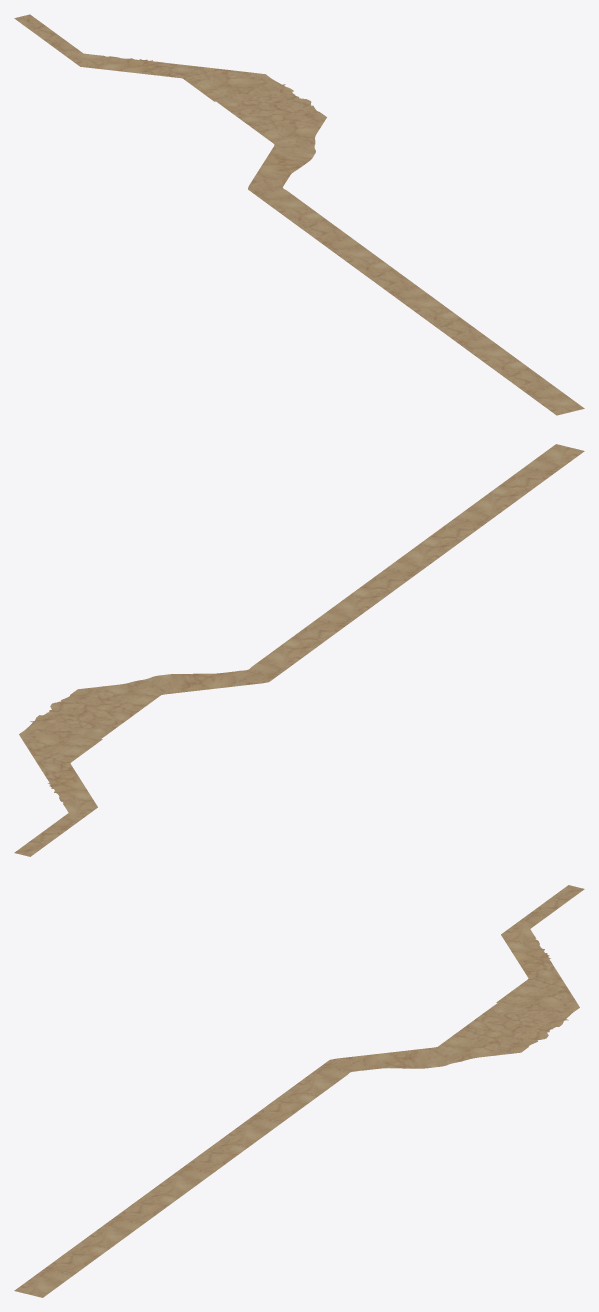
File: SM_ENV_LKNVLD_Ground_Right_ground.FBX
3 renders of one model, top to bottom at view 1: azimuth 30°, elevation 25°; view 2: azimuth 150°, elevation 25°; view 3: azimuth 330°, elevation 25°, orthographic. The views are drawn at different scales.
Visible parts, largest first — view 1: SM_ENV_LKNVLD_Ground_Right_ground; view 2: SM_ENV_LKNVLD_Ground_Right_ground; view 3: SM_ENV_LKNVLD_Ground_Right_ground.
Boxes of the visible parts, x1,y1,x2,y2 form: SM_ENV_LKNVLD_Ground_Right_ground: (14, 14, 584, 415); SM_ENV_LKNVLD_Ground_Right_ground: (14, 444, 584, 856); SM_ENV_LKNVLD_Ground_Right_ground: (14, 885, 584, 1297).
Size of the model in its own units: 1876 by 8.65 by 12800.
